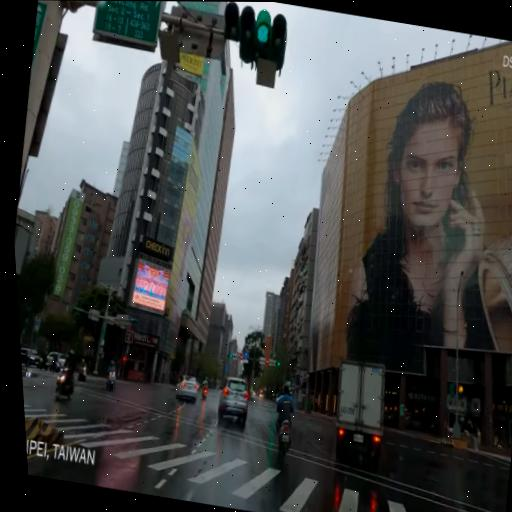Car: (325, 355, 396, 466), (211, 372, 254, 429), (173, 373, 200, 403), (44, 349, 74, 373), (20, 343, 45, 370)
